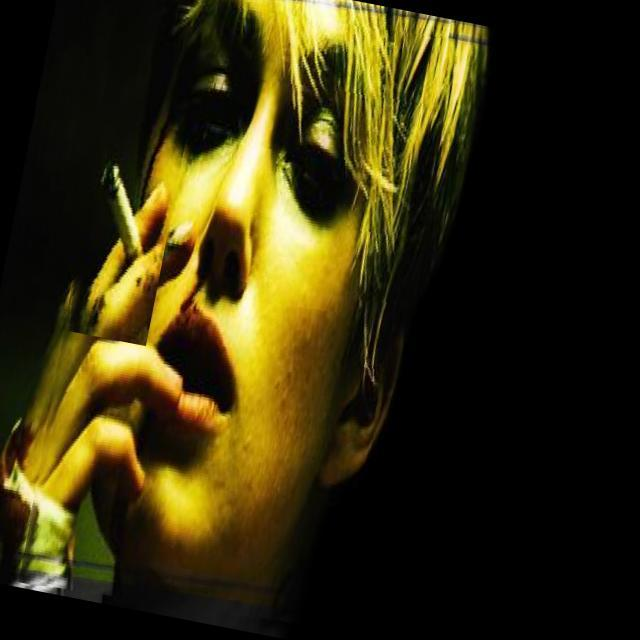cigarette: (46, 110, 188, 347)
